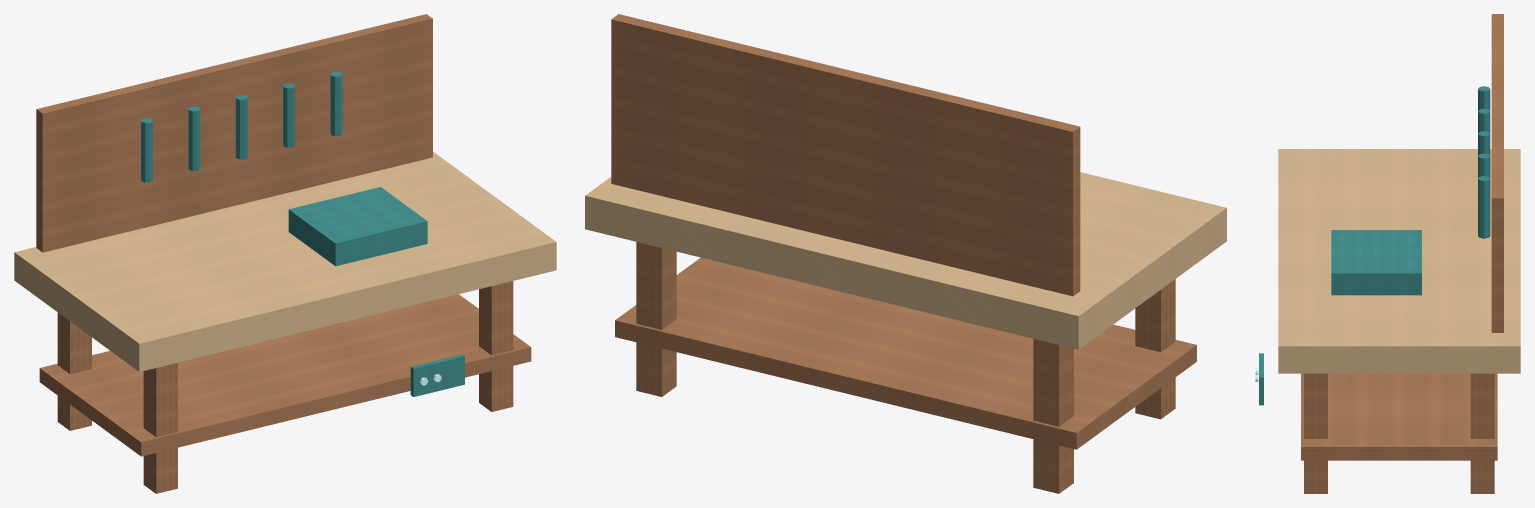
The model's file is atlas100-s096-a06.glb.
The picture shows the model from 3 angles, left to right: view 1: azimuth 30°, elevation 25°; view 2: azimuth 150°, elevation 25°; view 3: azimuth 270°, elevation 25°; orthographic projection. The views are drawn at different scales.
Visible parts, largest first — view 1: atlas100-s096-a06:part-004, atlas100-s096-a06:part-006, atlas100-s096-a06:part-005, atlas100-s096-a06:part-012, atlas100-s096-a06:part-003, atlas100-s096-a06:part-001, atlas100-s096-a06:part-000, atlas100-s096-a06:part-013, atlas100-s096-a06:part-011, atlas100-s096-a06:part-008, atlas100-s096-a06:part-009, atlas100-s096-a06:part-010 (+1 smaller); view 2: atlas100-s096-a06:part-006, atlas100-s096-a06:part-005, atlas100-s096-a06:part-004, atlas100-s096-a06:part-000, atlas100-s096-a06:part-002, atlas100-s096-a06:part-001; view 3: atlas100-s096-a06:part-004, atlas100-s096-a06:part-005, atlas100-s096-a06:part-012, atlas100-s096-a06:part-006, atlas100-s096-a06:part-002, atlas100-s096-a06:part-003, atlas100-s096-a06:part-011, atlas100-s096-a06:part-008, atlas100-s096-a06:part-010.
Part boxes in pixels (x1,y1,x2,y2): atlas100-s096-a06:part-004: (14, 152, 556, 371); atlas100-s096-a06:part-006: (36, 14, 432, 252); atlas100-s096-a06:part-005: (39, 294, 531, 456); atlas100-s096-a06:part-012: (288, 187, 427, 266); atlas100-s096-a06:part-003: (479, 281, 513, 411); atlas100-s096-a06:part-001: (143, 363, 177, 493); atlas100-s096-a06:part-000: (57, 312, 91, 430); atlas100-s096-a06:part-013: (410, 354, 464, 396); atlas100-s096-a06:part-011: (330, 71, 342, 136); atlas100-s096-a06:part-008: (188, 106, 200, 170); atlas100-s096-a06:part-009: (235, 95, 247, 159); atlas100-s096-a06:part-010: (283, 83, 294, 147); atlas100-s096-a06:part-006: (611, 14, 1080, 296); atlas100-s096-a06:part-005: (615, 257, 1196, 449); atlas100-s096-a06:part-004: (585, 172, 1226, 349); atlas100-s096-a06:part-000: (1033, 338, 1073, 493); atlas100-s096-a06:part-002: (636, 242, 676, 396); atlas100-s096-a06:part-001: (1135, 279, 1175, 419); atlas100-s096-a06:part-004: (1278, 149, 1520, 373); atlas100-s096-a06:part-005: (1301, 373, 1497, 460); atlas100-s096-a06:part-012: (1331, 230, 1421, 295); atlas100-s096-a06:part-006: (1491, 14, 1503, 332); atlas100-s096-a06:part-002: (1470, 373, 1494, 493); atlas100-s096-a06:part-003: (1304, 373, 1327, 493); atlas100-s096-a06:part-011: (1478, 176, 1490, 238); atlas100-s096-a06:part-008: (1478, 108, 1490, 133); atlas100-s096-a06:part-010: (1478, 153, 1490, 177).
Size of the model in its own units: 3.08 by 2.21 by 1.75.
4 materials, 4 textured.
